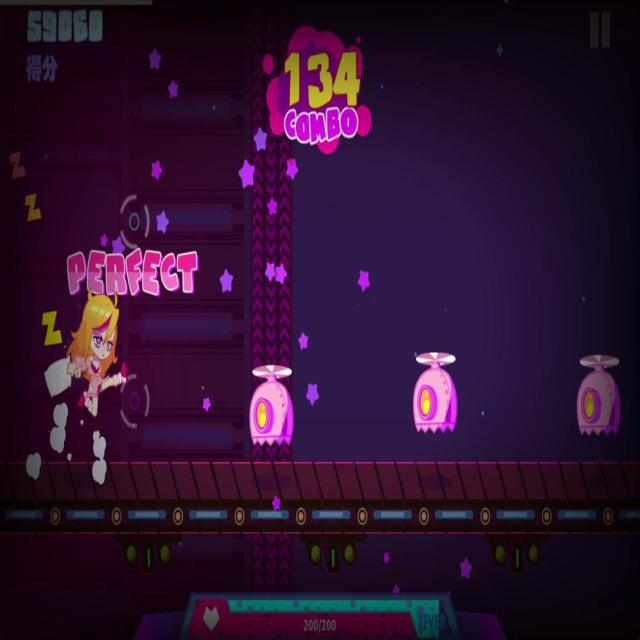jiqiqiu: (572, 340, 631, 441), (411, 346, 462, 435), (247, 362, 299, 449)
